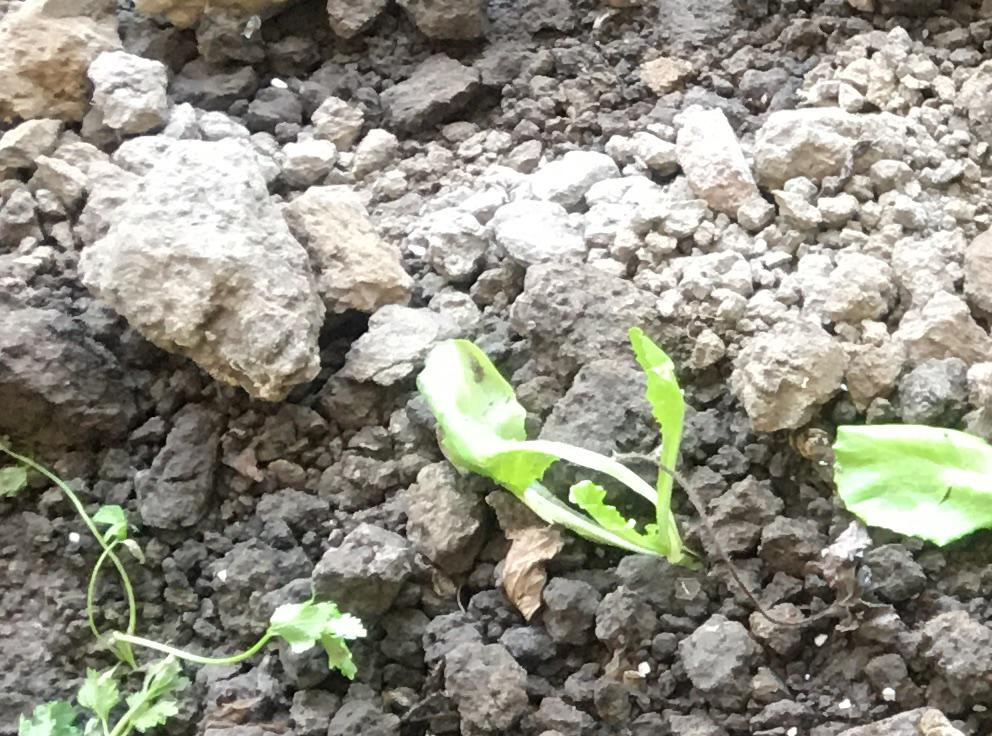block: (81, 135, 320, 404)
